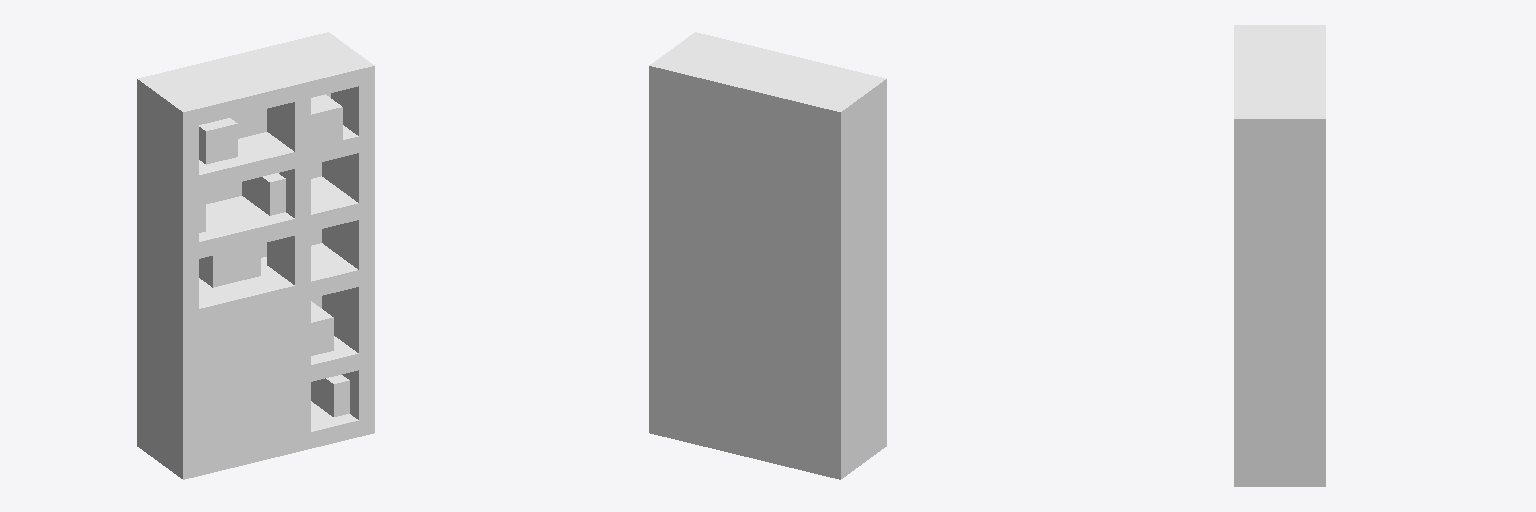
File: Billy01b.obj
The picture shows the model from 3 angles: view 1: azimuth 30°, elevation 25°; view 2: azimuth 150°, elevation 25°; view 3: azimuth 270°, elevation 25°; orthographic projection.
Parts seen in each view (by area): view 1: object 1; view 2: object 1; view 3: object 1.
Boxes of the visible parts, x1=… form: object 1: x1=137, y1=32, x2=374, y2=479; object 1: x1=649, y1=32, x2=886, y2=479; object 1: x1=1234, y1=25, x2=1325, y2=486.
Size of the model in its own units: 1.2 by 2.2 by 0.5.